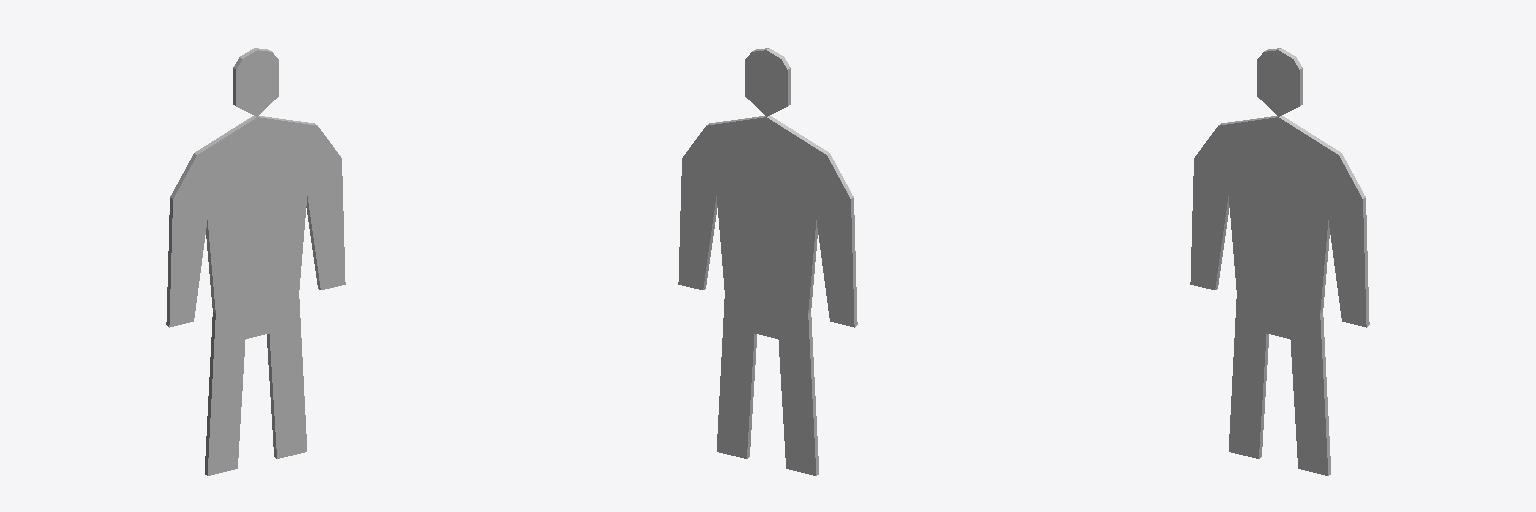
Rendered from person.obj.
3 renders of one model, left to right at view 1: azimuth 30°, elevation 25°; view 2: azimuth 150°, elevation 25°; view 3: azimuth 330°, elevation 25°, orthographic.
Visible parts, largest first — view 1: Mesh1 Model; view 2: Mesh1 Model; view 3: Mesh1 Model.
Part boxes in pixels (left/top/right/bottom): Mesh1 Model: left=166, top=48, right=345, bottom=475; Mesh1 Model: left=678, top=48, right=857, bottom=475; Mesh1 Model: left=1190, top=48, right=1369, bottom=475.
Bounding box in the file's own units: 0.7594 × 1.7 × 0.0224.